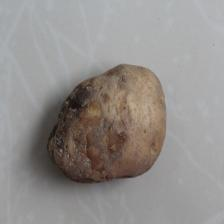Diseased-fungal potato: (46, 62, 168, 186)
